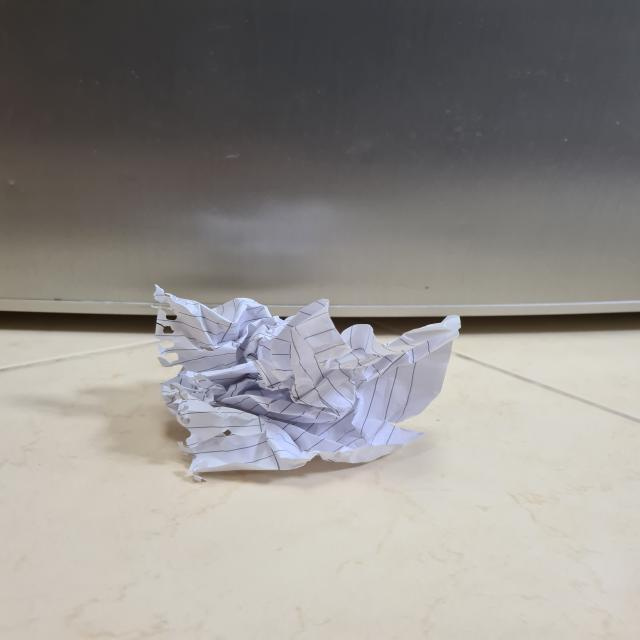Paper: (155, 280, 459, 475)
